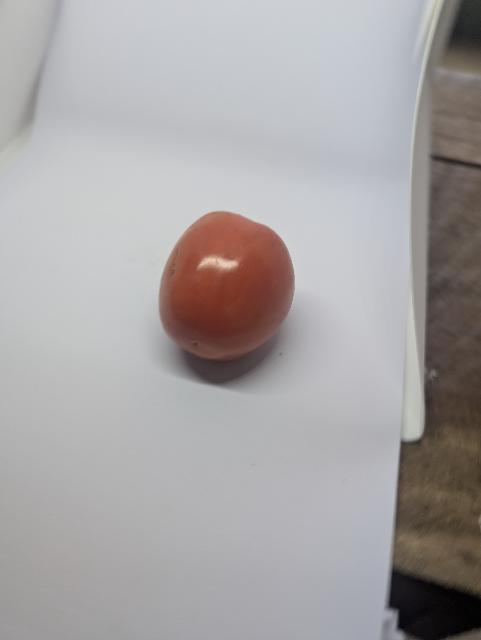red: (123, 196, 347, 409)
